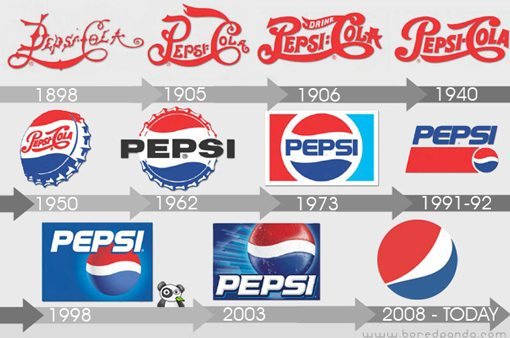pepsi: (377, 218, 456, 300), (379, 218, 456, 300), (288, 111, 352, 183), (247, 220, 314, 277), (84, 242, 141, 295), (474, 146, 498, 172)
